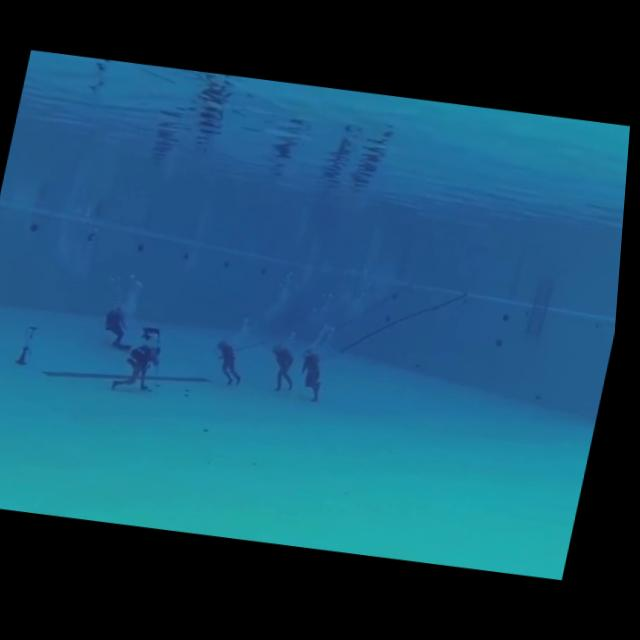human: (112, 327, 179, 402), (206, 331, 263, 403), (98, 284, 148, 358), (264, 329, 311, 400), (300, 343, 343, 409)
